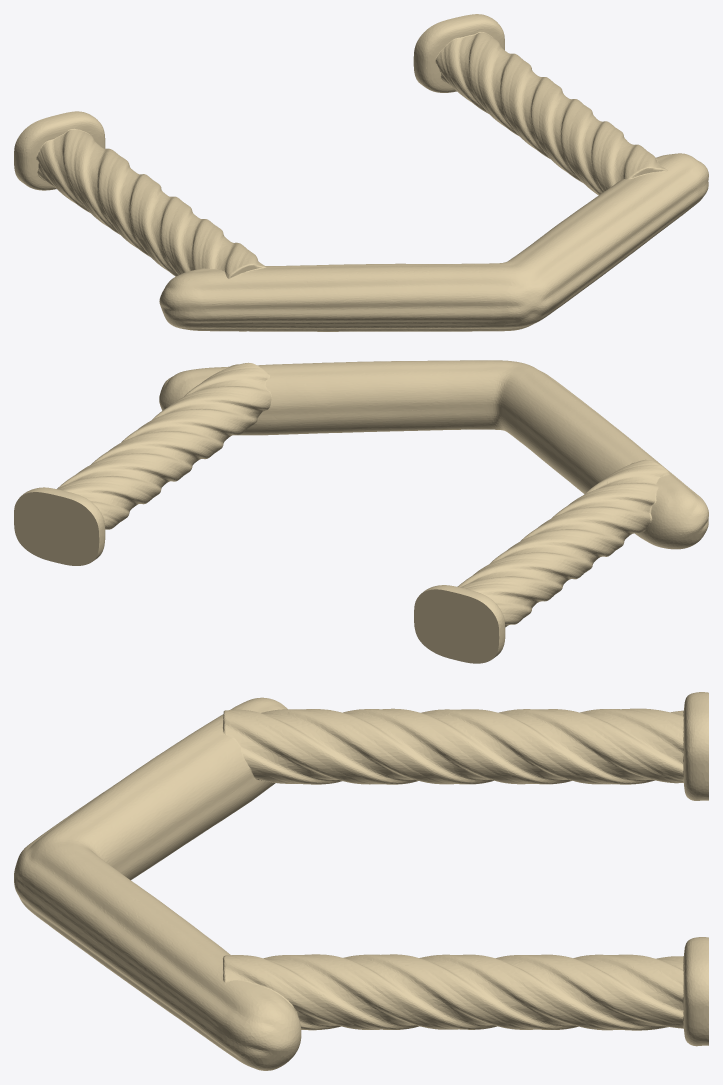
Rendered from portal-belen-columnas-trenzadas.glb.
The picture shows the model from 3 angles, top to bottom: view 1: azimuth 30°, elevation 25°; view 2: azimuth 150°, elevation 25°; view 3: azimuth 270°, elevation 25°; orthographic projection. The views are drawn at different scales.
Bounding box in the file's own units: 200 × 26.33 × 177.
